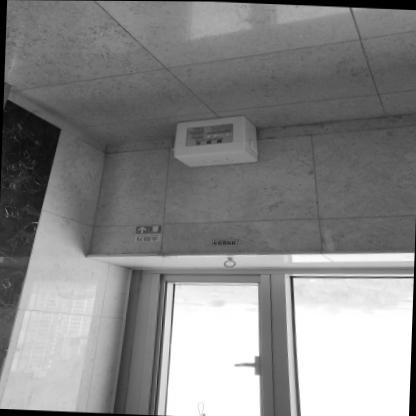DDL: (172, 114, 258, 169)
